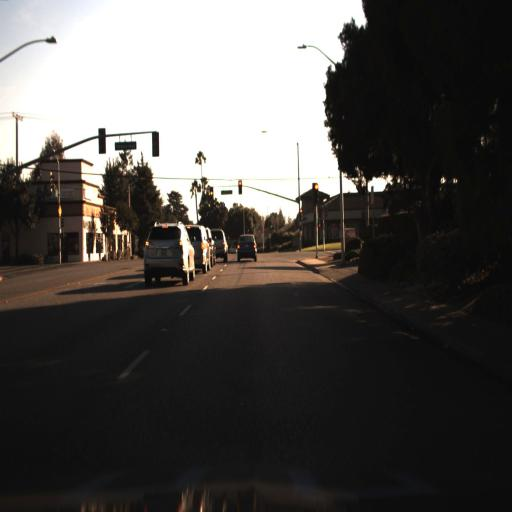car: (141, 221, 195, 288), (185, 222, 210, 273), (233, 232, 258, 267), (212, 226, 230, 262)
trafficLight: (207, 184, 216, 206)
trafficLight-Red: (308, 175, 319, 206), (310, 182, 320, 204), (236, 177, 243, 197)
